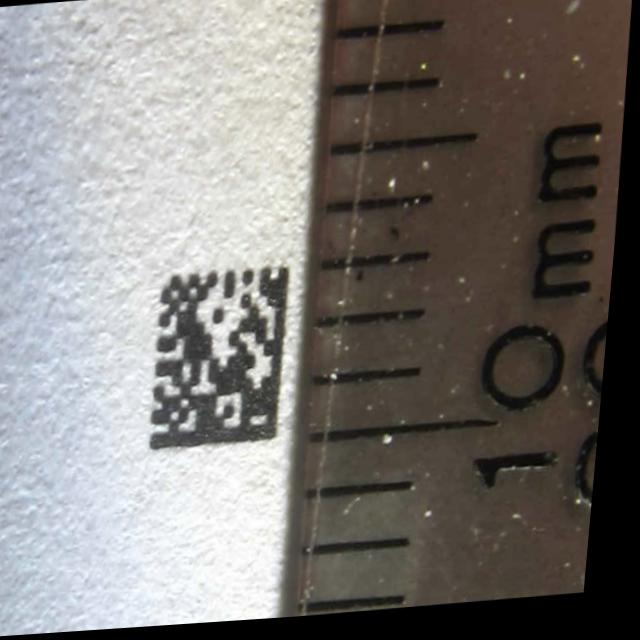datamatrix: (155, 269, 298, 452)
